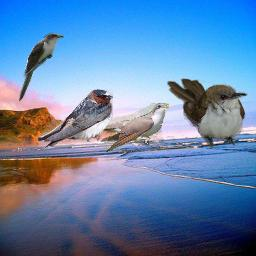Cuckoo: (167, 78, 248, 150), (73, 103, 169, 152), (17, 32, 64, 102)
Swallow: (38, 89, 113, 149)
